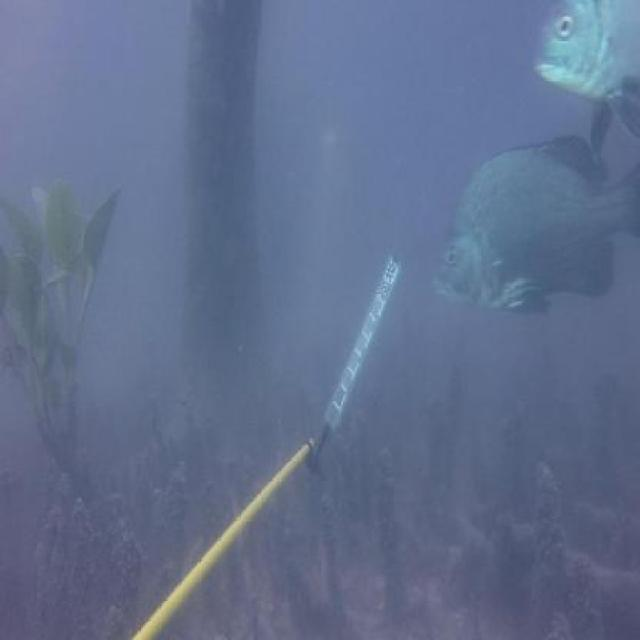acanthopagrus_palmaris: (429, 135, 640, 322), (529, 0, 640, 162)
